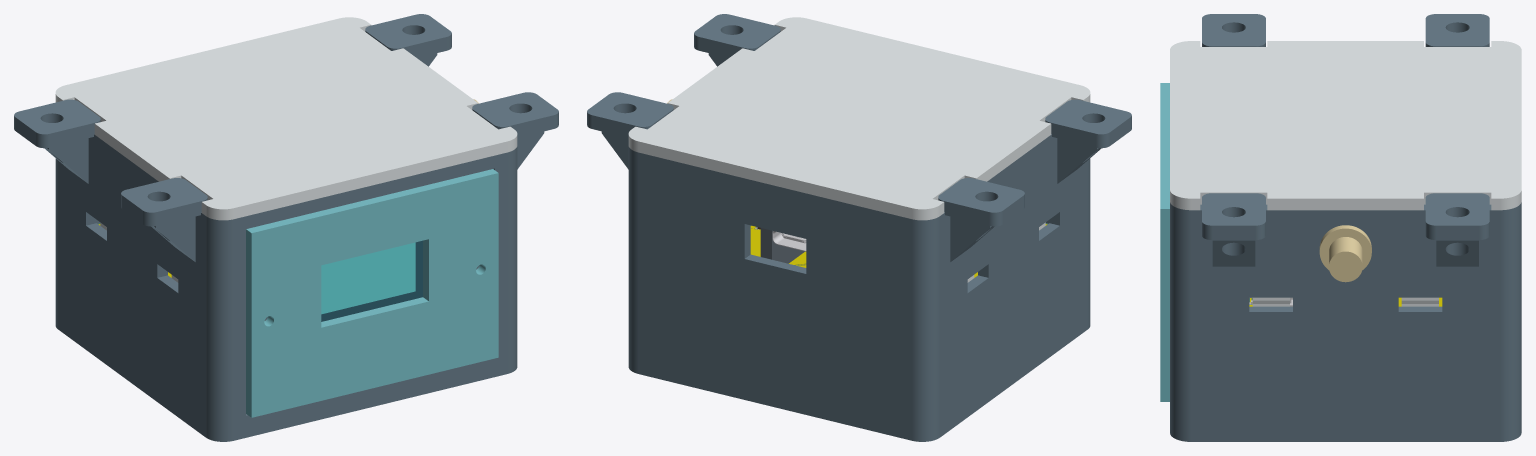
Rendered from product_oled.glb.
3 views of the same model, side by side, from view 1: azimuth 30°, elevation 25°; view 2: azimuth 150°, elevation 25°; view 3: azimuth 270°, elevation 25° (orthographic). The views are drawn at different scales.
Visible parts, largest first — view 1: product_oled (×5); view 2: product_oled (×3); view 3: product_oled (×4).
Boxes of the visible parts, box(x1,y1,x2,y2) form: product_oled (×5): box(14, 14, 558, 441); product_oled (×3): box(587, 14, 1131, 441); product_oled (×4): box(1160, 14, 1521, 441).
Bounding box in the file's own units: 0.094 × 0.0504 × 0.0678.
